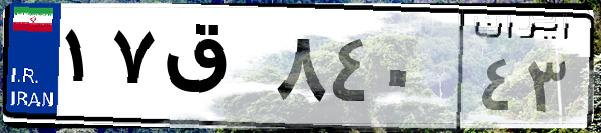0: (385, 28, 445, 110)
1: (57, 26, 110, 100)
3: (525, 38, 570, 115)
4: (330, 28, 385, 110), (475, 38, 525, 113)
7: (110, 28, 158, 98)
8: (270, 28, 330, 110)
ق: (158, 20, 270, 120)
